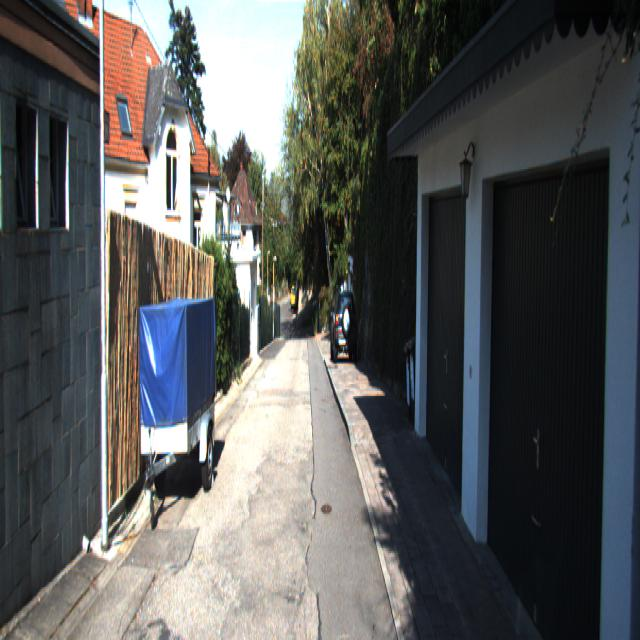Car: (138, 297, 216, 522), (329, 288, 358, 366)
